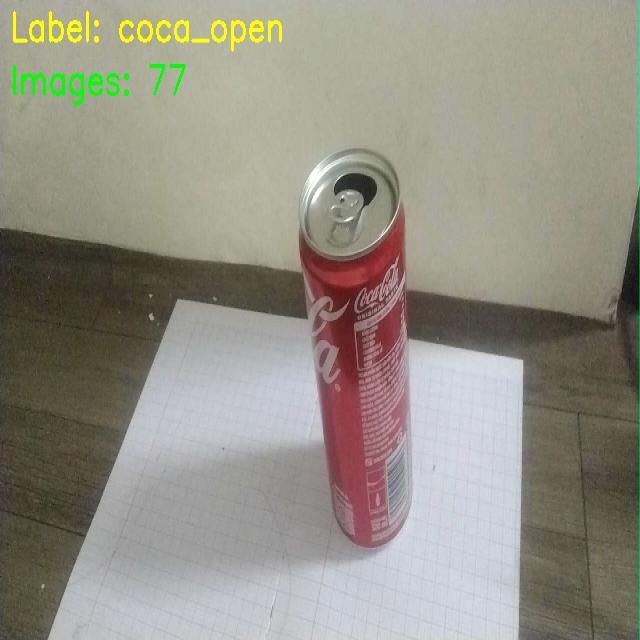Coca_open: (282, 147, 444, 572)
